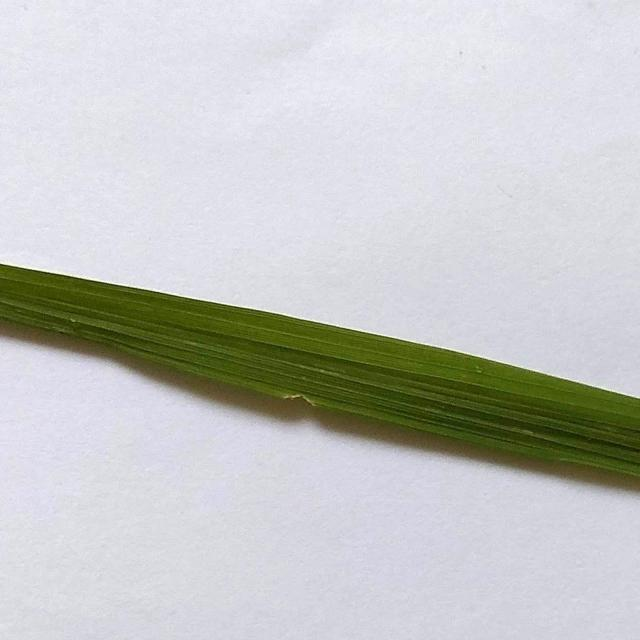healthy: (0, 235, 640, 528)
